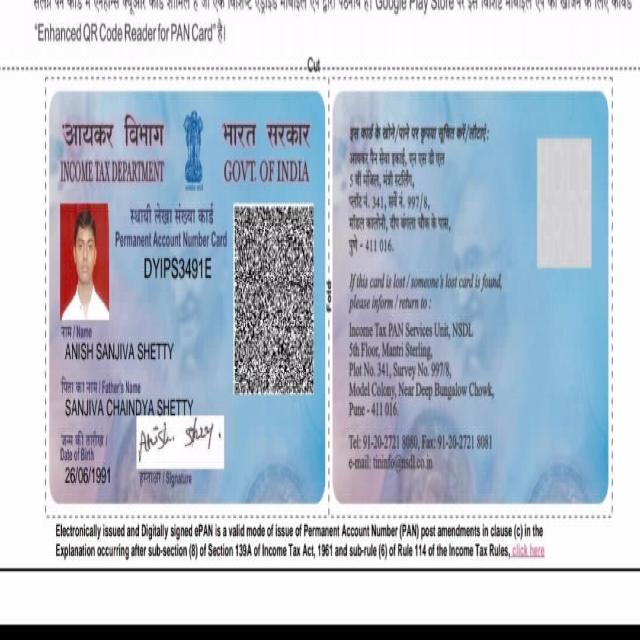pan_card: (49, 87, 325, 502), (333, 91, 608, 499)
